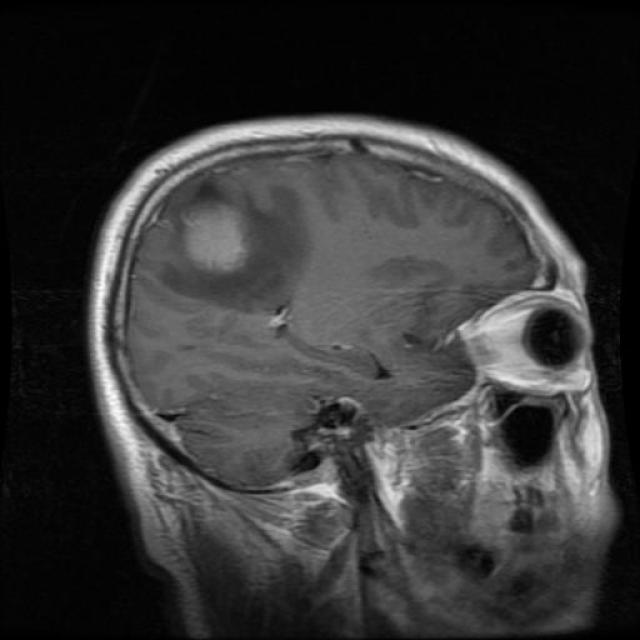meningioma: (182, 208, 248, 272)
